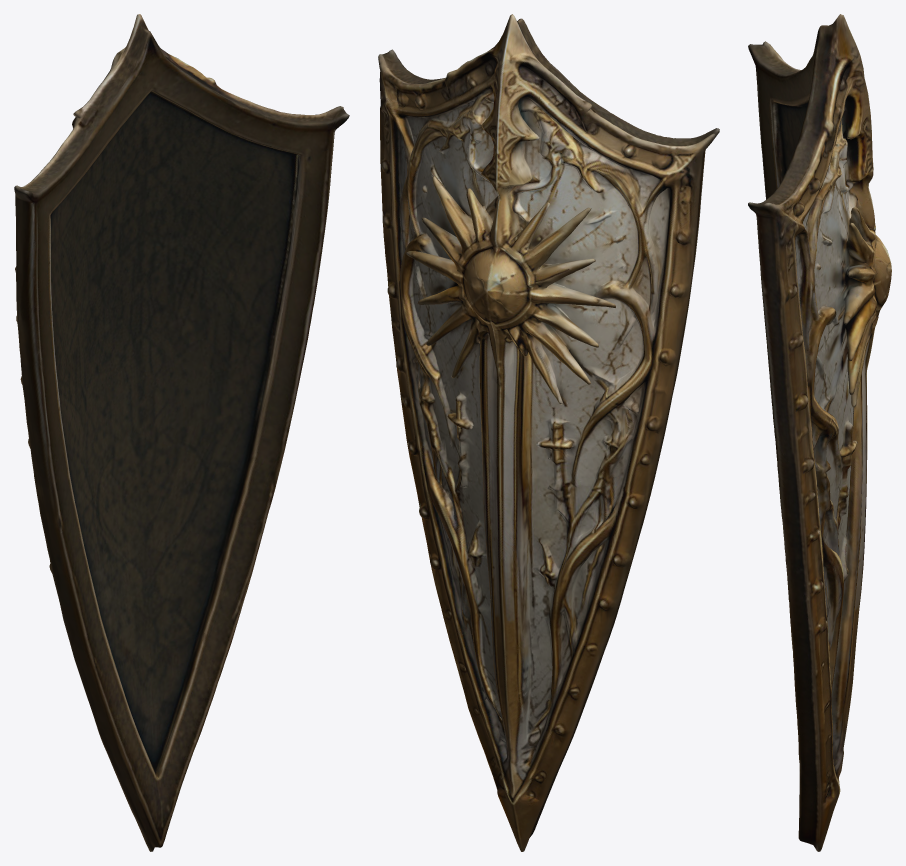
Rendered from kite_sunforged.glb.
The picture shows the model from 3 angles, left to right: view 1: azimuth 30°, elevation 25°; view 2: azimuth 150°, elevation 25°; view 3: azimuth 270°, elevation 25°; orthographic projection.
Visible parts, largest first — view 1: kite_sunforged; view 2: kite_sunforged; view 3: kite_sunforged.
Boxes of the visible parts, x1,y1,x2,y2 form: kite_sunforged: (14,14,349,851); kite_sunforged: (378,14,719,851); kite_sunforged: (748,14,891,851).
Bounding box in the file's own units: 0.3702 × 0.8914 × 0.1389.
1 material, 1 textured.
